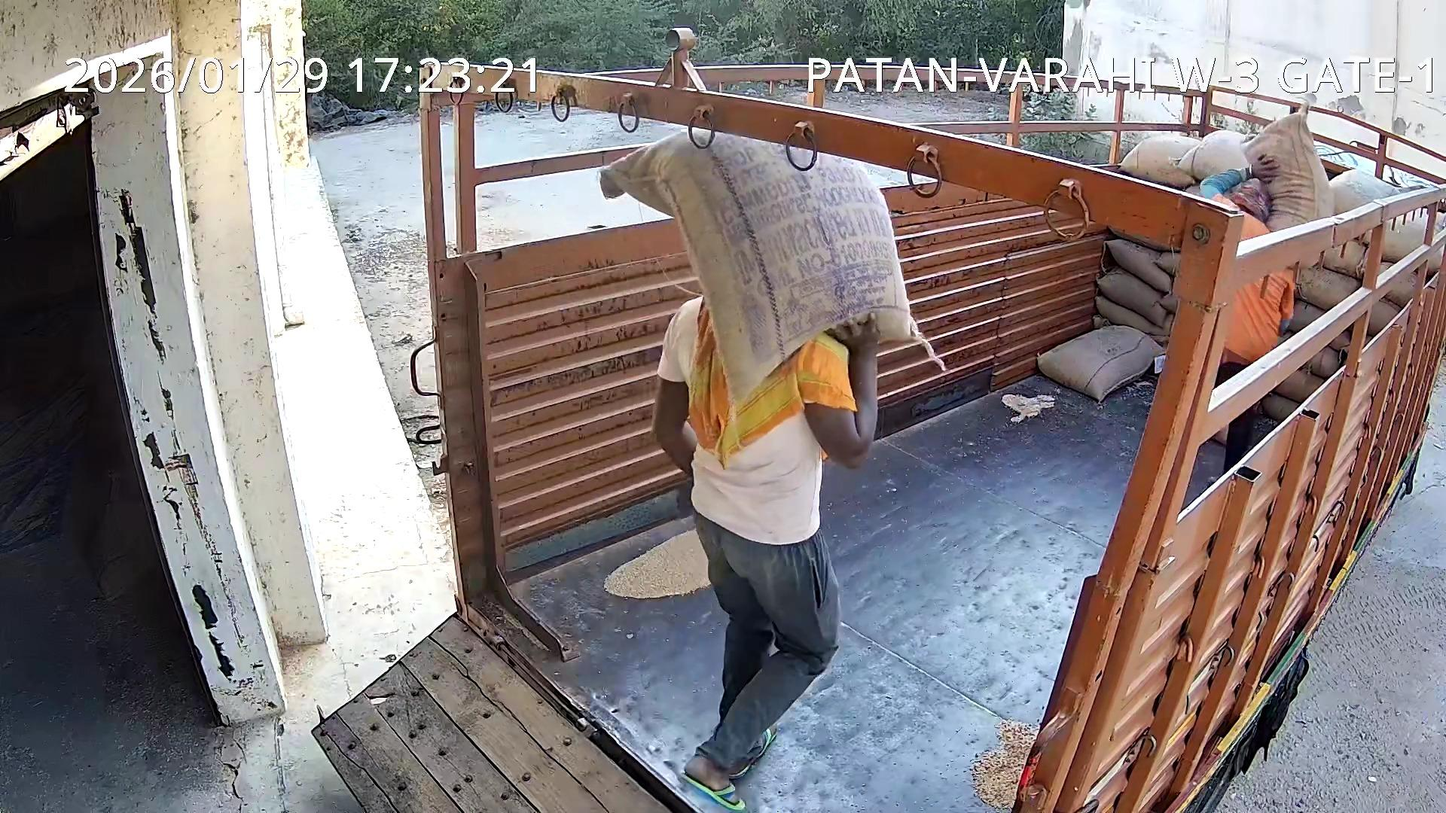Sack: (599, 132, 929, 405)
